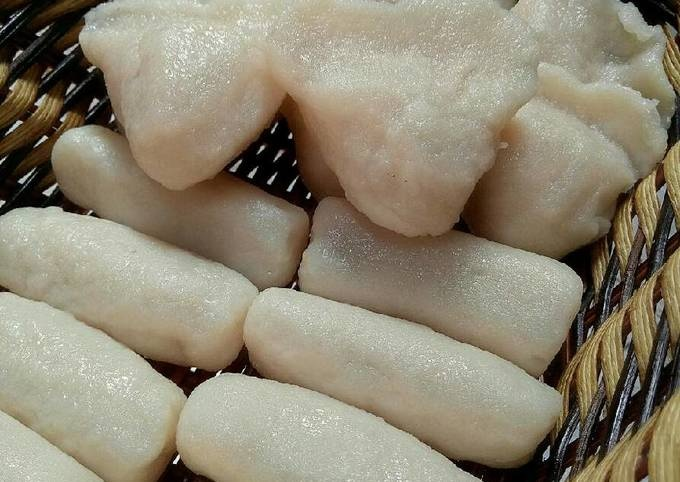pempek: (22, 24, 629, 444)
